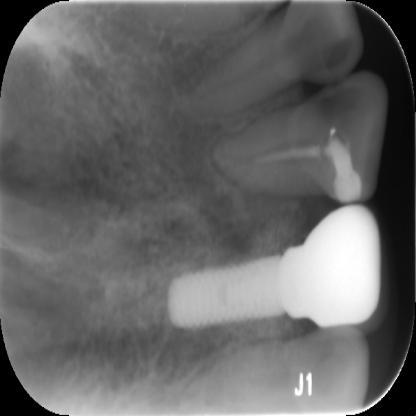ITI: (166, 248, 290, 339)
